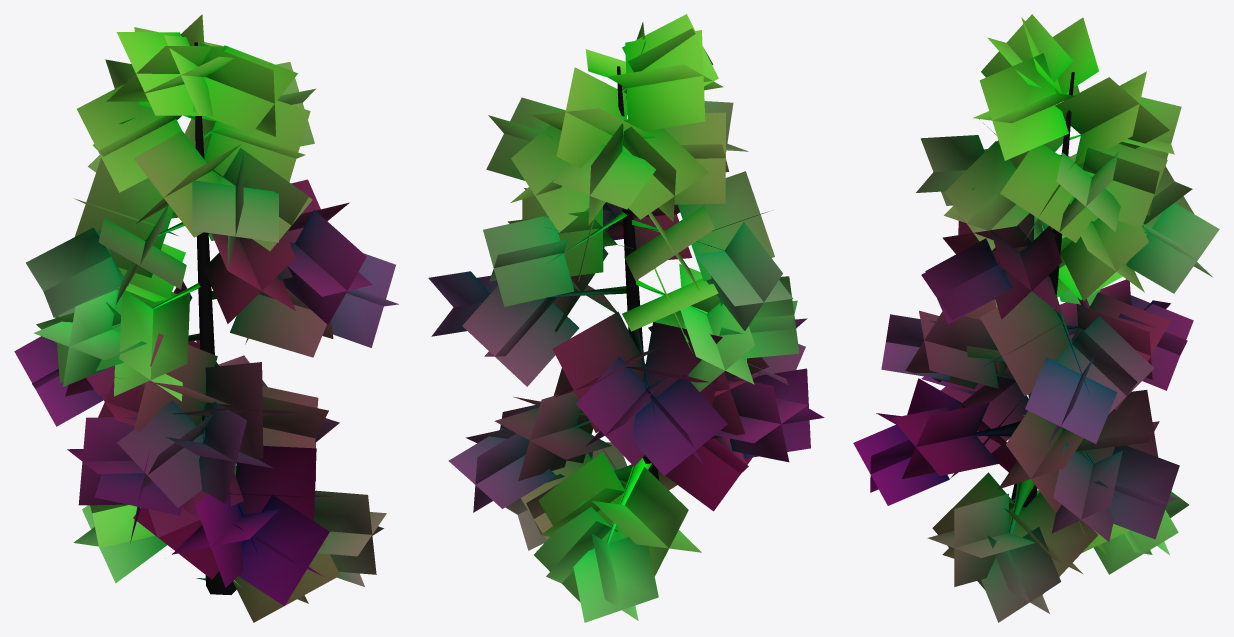
The model's file is URP_P7_Tree_3_LOD_3.fbx.
3 renders of one model, left to right at view 1: azimuth 30°, elevation 25°; view 2: azimuth 150°, elevation 25°; view 3: azimuth 270°, elevation 25°, orthographic. The views are drawn at different scales.
Visible parts, largest first — view 1: Tree_3_LOD_3; view 2: Tree_3_LOD_3; view 3: Tree_3_LOD_3.
Boxes of the visible parts, left/top/right/bottom form: Tree_3_LOD_3: left=14, top=14, right=398, bottom=622; Tree_3_LOD_3: left=428, top=14, right=824, bottom=622; Tree_3_LOD_3: left=853, top=14, right=1219, bottom=622.
Size of the model in its own units: 289 by 436 by 272.
